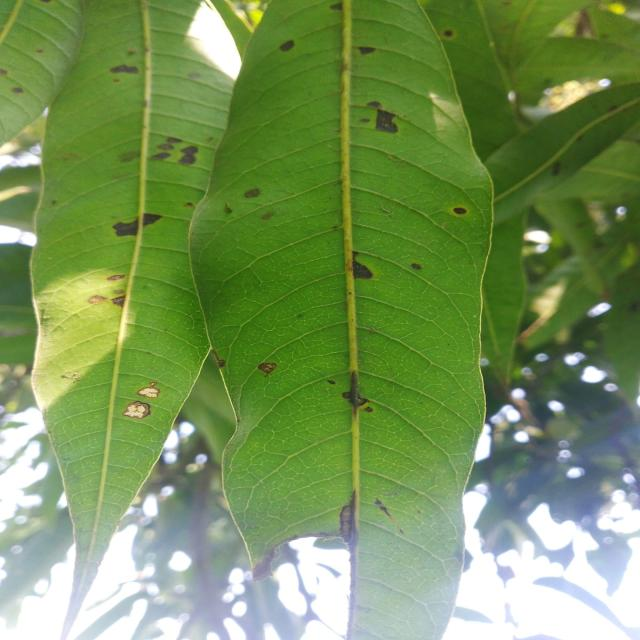Anthracnose: (357, 92, 427, 151), (121, 131, 216, 174), (107, 202, 175, 243), (262, 28, 322, 56)
